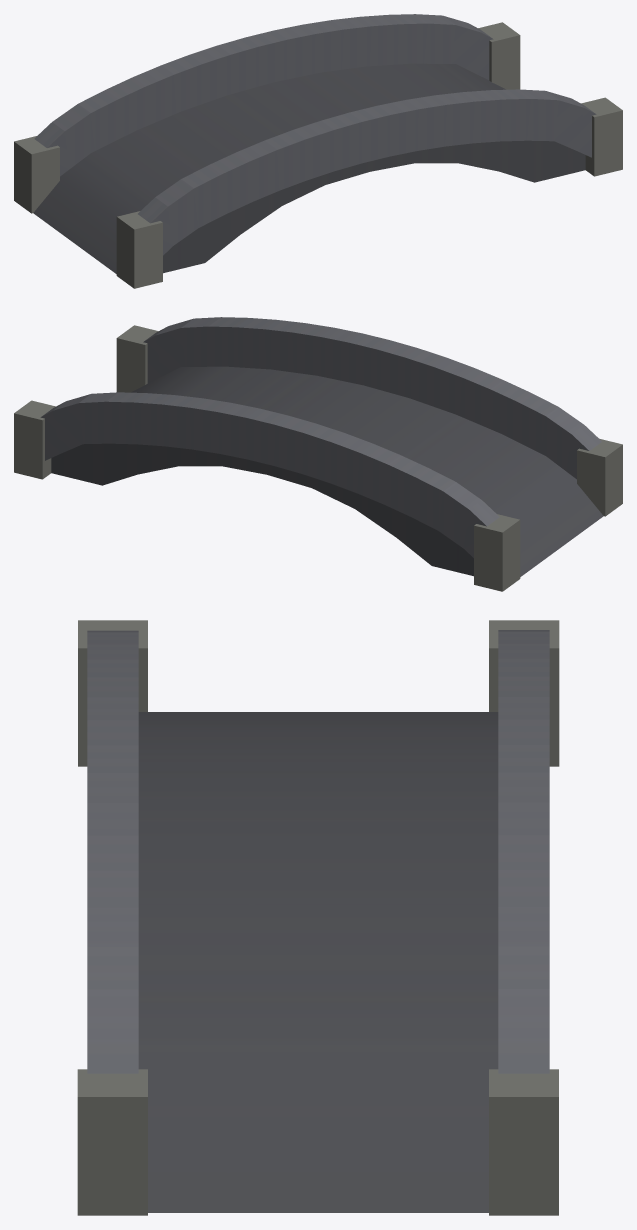
File: Bridge_3_Phys.fbx
3 renders of one model, top to bottom at view 1: azimuth 30°, elevation 25°; view 2: azimuth 150°, elevation 25°; view 3: azimuth 270°, elevation 25°, orthographic. The views are drawn at different scales.
Parts seen in each view (by area): view 1: polySurface10302; view 2: polySurface10302; view 3: polySurface10302.
Part boxes in pixels (x1=…): polySurface10302: x1=14, y1=14, x2=622, y2=288; polySurface10302: x1=14, y1=317, x2=622, y2=591; polySurface10302: x1=77, y1=620, x2=559, y2=1215.
Size of the model in its own units: 1098 by 234 by 468.
